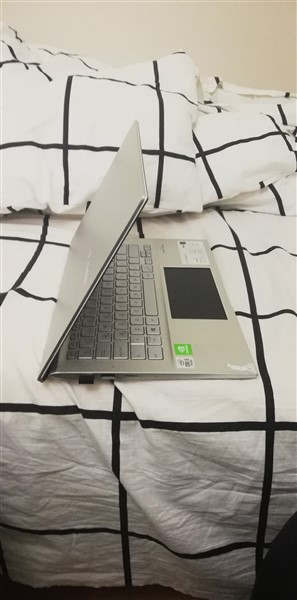laptop: (33, 118, 262, 389)
